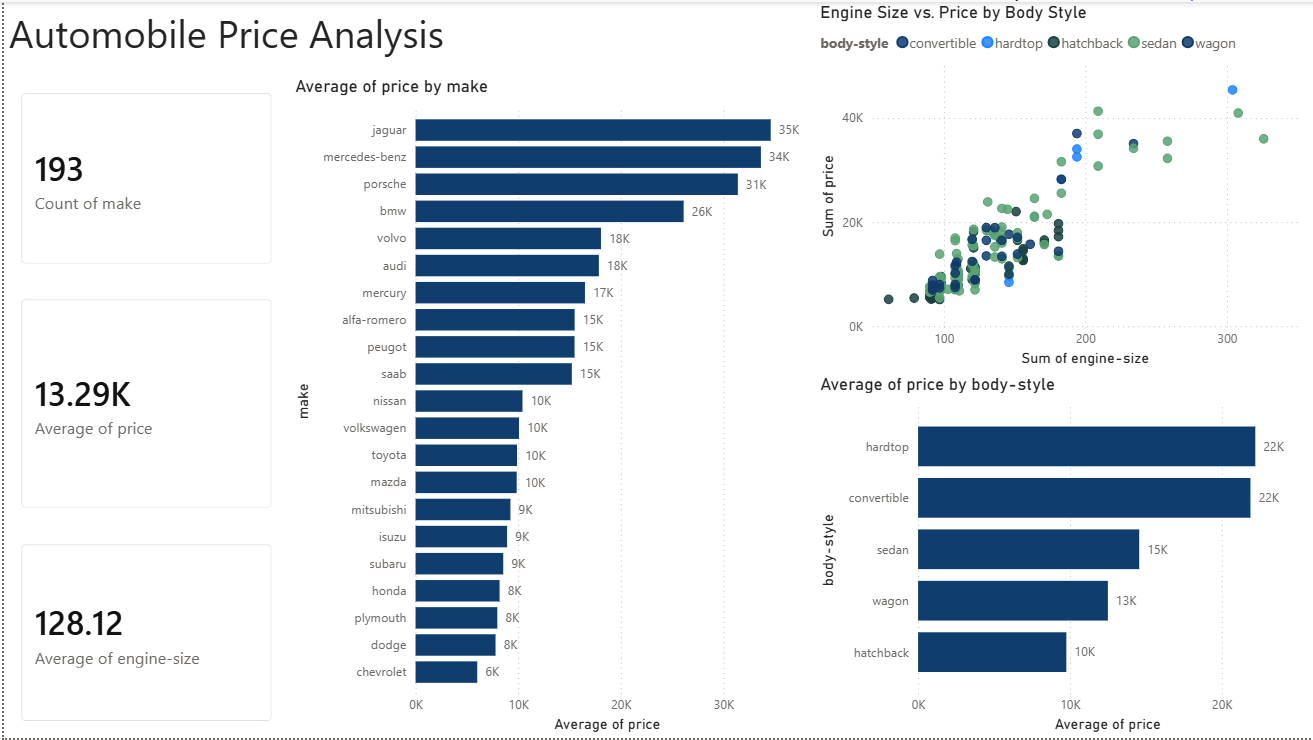

This screenshot's page, from the dashboard's own definition file:
{"tool":"powerbi","page":{"name":"Page 1","canvas":[1280,720],"ordinal":0},"visuals":[{"type":"cardVisual","fields":{"Data":["CountNonNull(automobile_cleaned.make)"]},"box":[0,72.7,279.9,201.7],"z":0},{"type":"cardVisual","fields":{"Data":["Avg(automobile_cleaned.price)"]},"box":[0,274.4,279.9,238.8],"z":1000},{"type":"cardVisual","fields":{"Data":["Avg(automobile_cleaned.engine-size)"]},"box":[0,513.2,279.9,207.2],"z":2000},{"type":"clusteredBarChart","fields":{"Category":["automobile_cleaned.make"],"Y":["Avg(automobile_cleaned.price)"]},"box":[279.9,72.7,513.2,647.7],"z":3000},{"type":"clusteredBarChart","fields":{"Category":["automobile_cleaned.body-style"],"Y":["Avg(automobile_cleaned.price)"]},"box":[793.1,363.6,487.1,356.8],"z":4000},{"type":"scatterChart","title":"Engine Size vs. Price by Body Style","fields":{"X":["Sum(automobile_cleaned.engine-size)"],"Y":["Sum(automobile_cleaned.price)"],"Series":["automobile_cleaned.body-style"],"Category":["automobile_cleaned.Index"]},"box":[793.1,0,487.1,360.9],"z":5000},{"type":"textbox","box":[0,0,793.1,72.7],"z":6000}]}

Visuals, with their boxes in screenshot pixels (x1, y1, x2, y2), scaled from the page's 1280x720 canvas onto the 1313x740 screenshot:
cardVisual - CountNonNull(automobile_cleaned.make): <bbox>0, 75, 287, 282</bbox>
cardVisual - Avg(automobile_cleaned.price): <bbox>0, 282, 287, 527</bbox>
cardVisual - Avg(automobile_cleaned.engine-size): <bbox>0, 527, 287, 739</bbox>
clusteredBarChart - automobile_cleaned.make x Avg(automobile_cleaned.price): <bbox>287, 75, 814, 739</bbox>
clusteredBarChart - automobile_cleaned.body-style x Avg(automobile_cleaned.price): <bbox>814, 374, 1312, 739</bbox>
"Engine Size vs. Price by Body Style" scatterChart: <bbox>814, 0, 1312, 371</bbox>
textbox: <bbox>0, 0, 814, 75</bbox>
